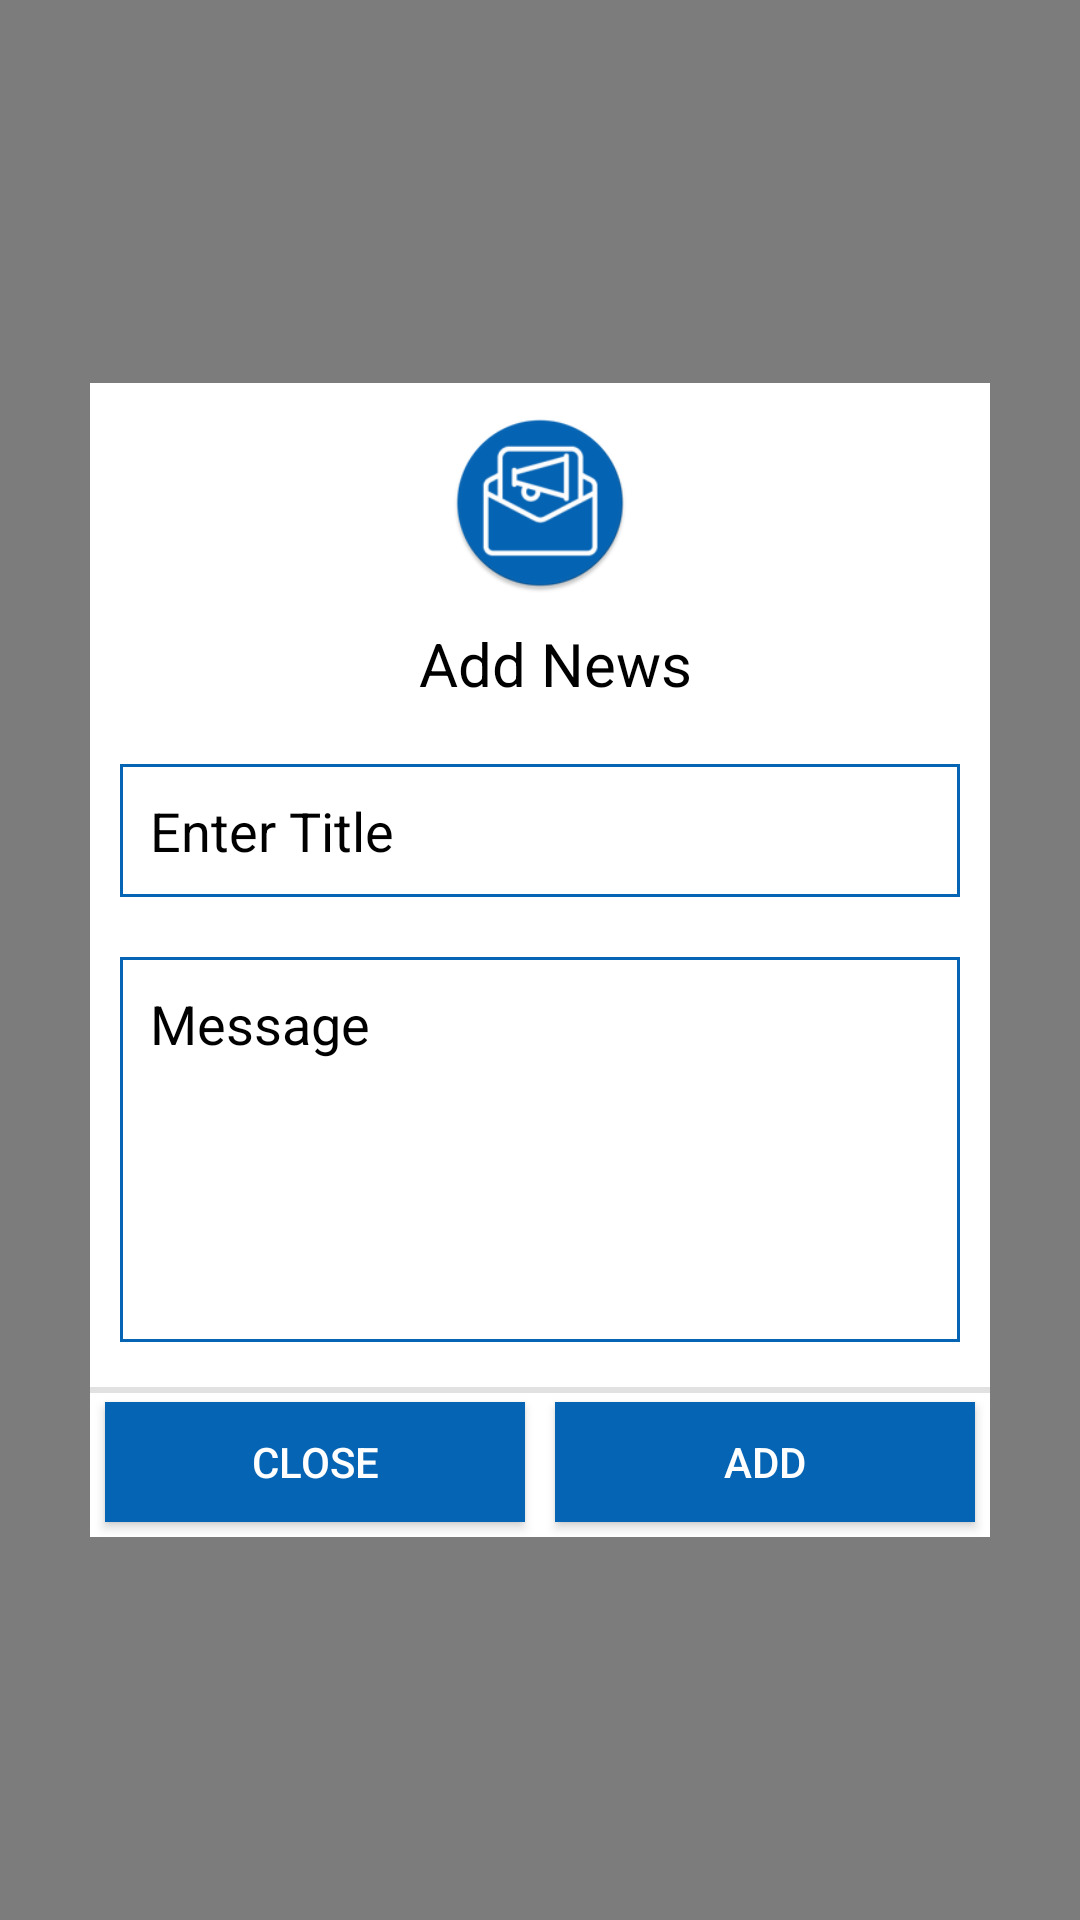

Icons on this 1080*1920 Android screen, each with the point to tap as [x,y]:
news round: [540,504]
